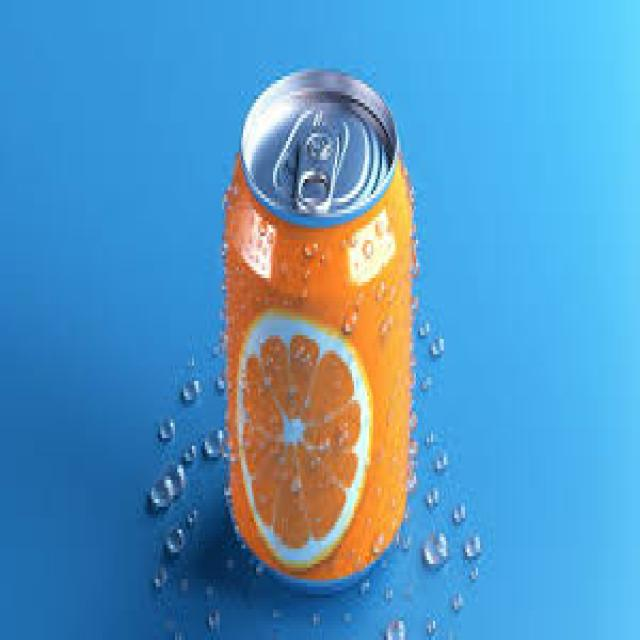Cans: (216, 57, 418, 602)
